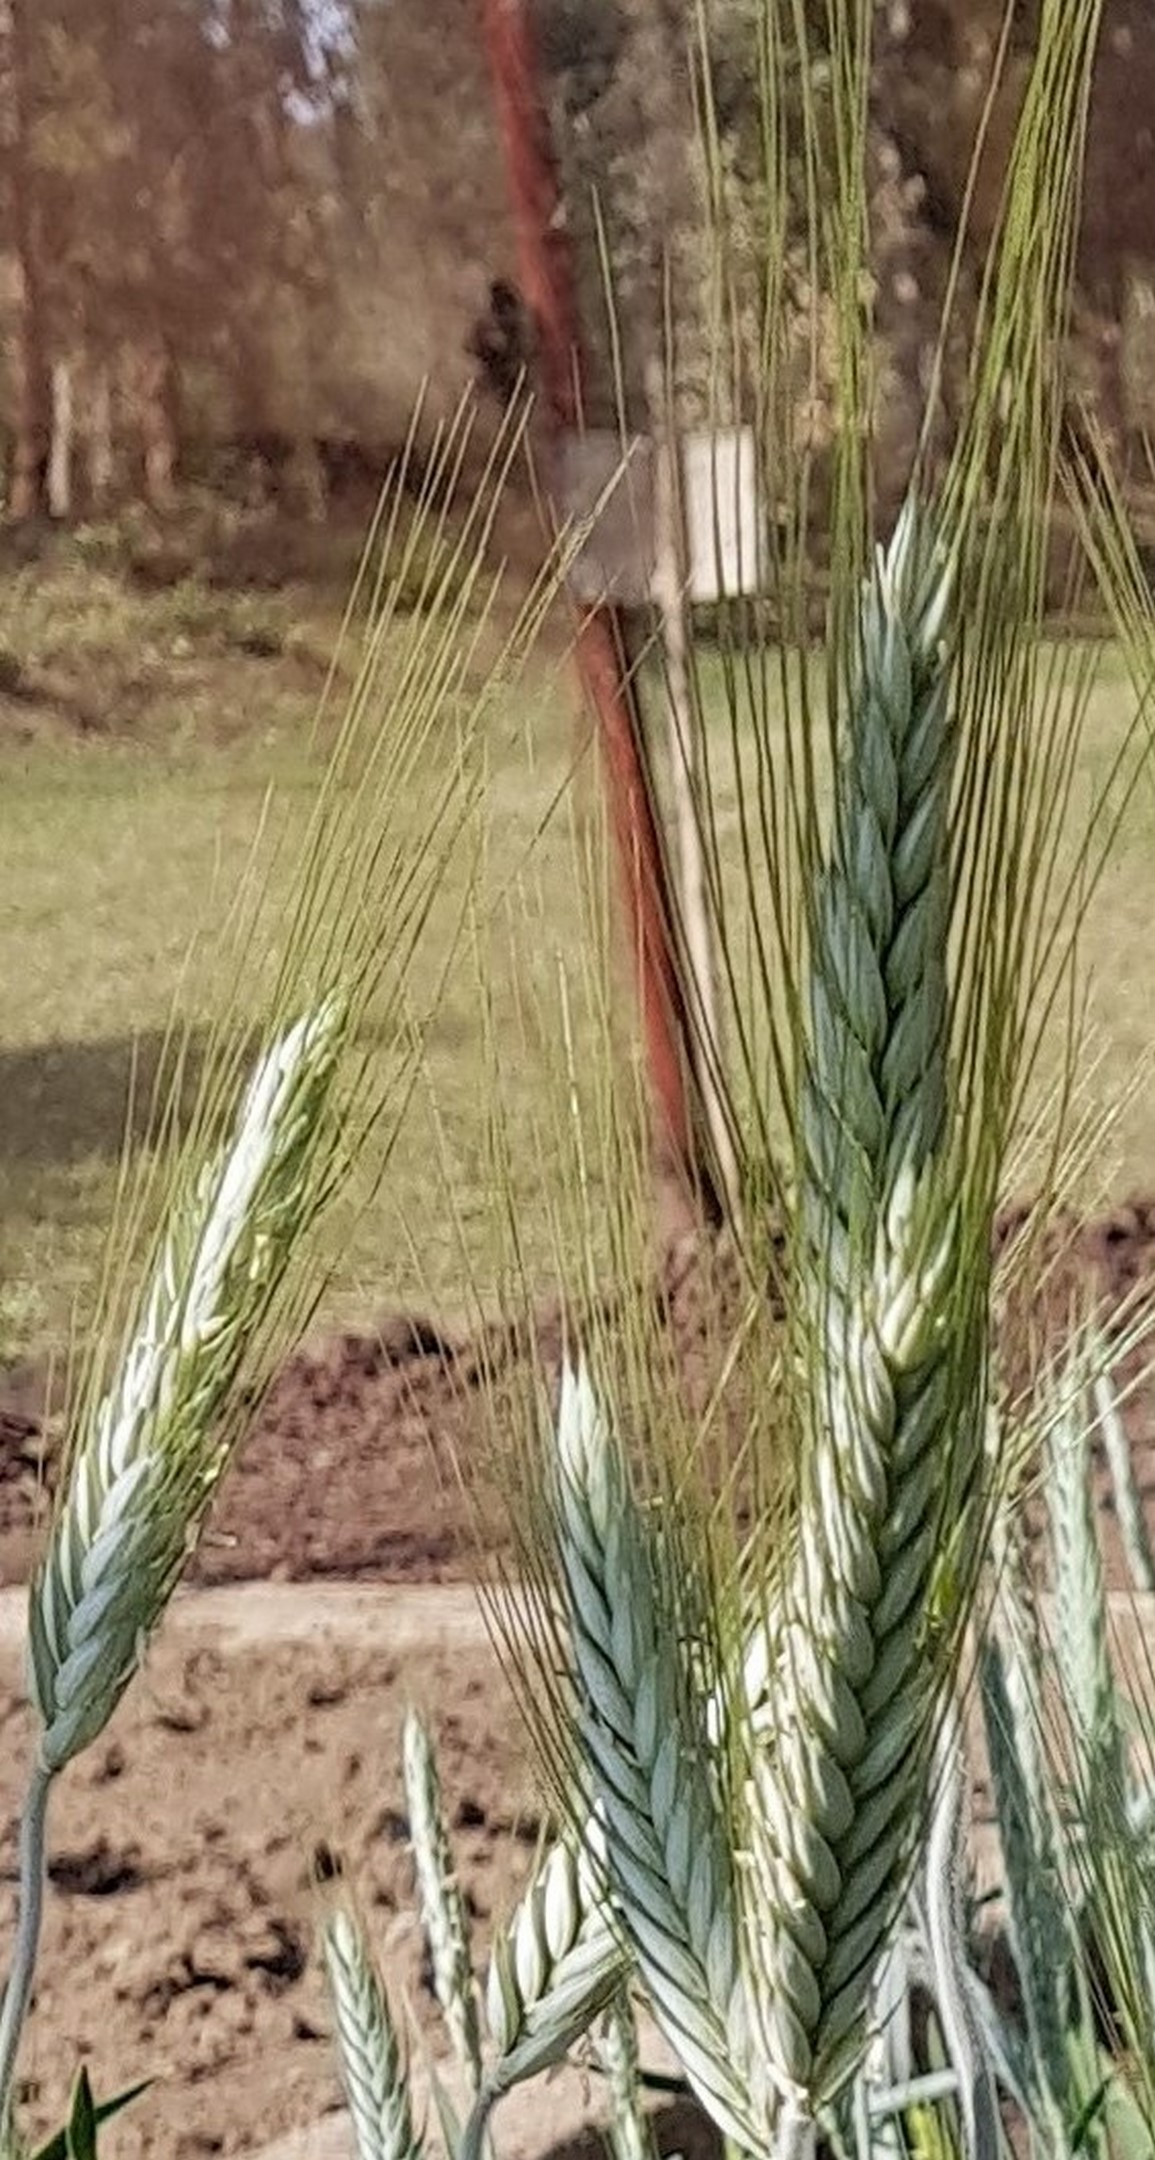Healthy Wheat: (14, 991, 380, 1751), (510, 1356, 755, 2099)
